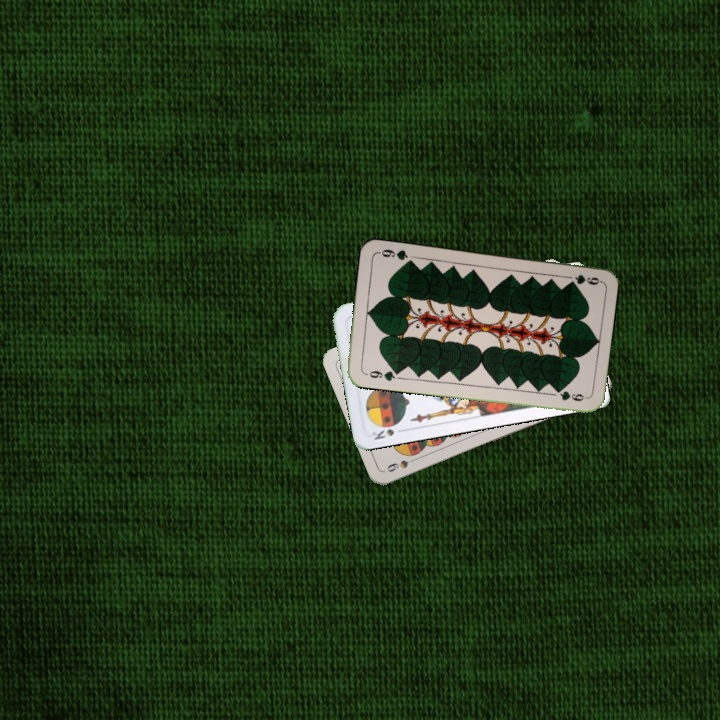G9: (360, 366, 401, 384), (571, 270, 602, 288)
S9: (383, 453, 421, 475)
SK: (368, 425, 408, 442)
